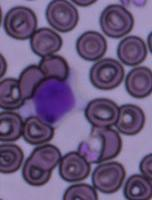L: (23, 77, 82, 127)
